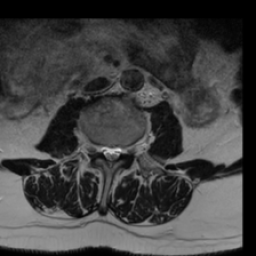CCS_normal: (107, 136, 114, 175)
LFS_normal: (122, 136, 130, 162)
LLS_normal: (114, 137, 122, 166)
RFS_normal: (91, 134, 99, 162)
RLS_normal: (99, 136, 107, 164)
